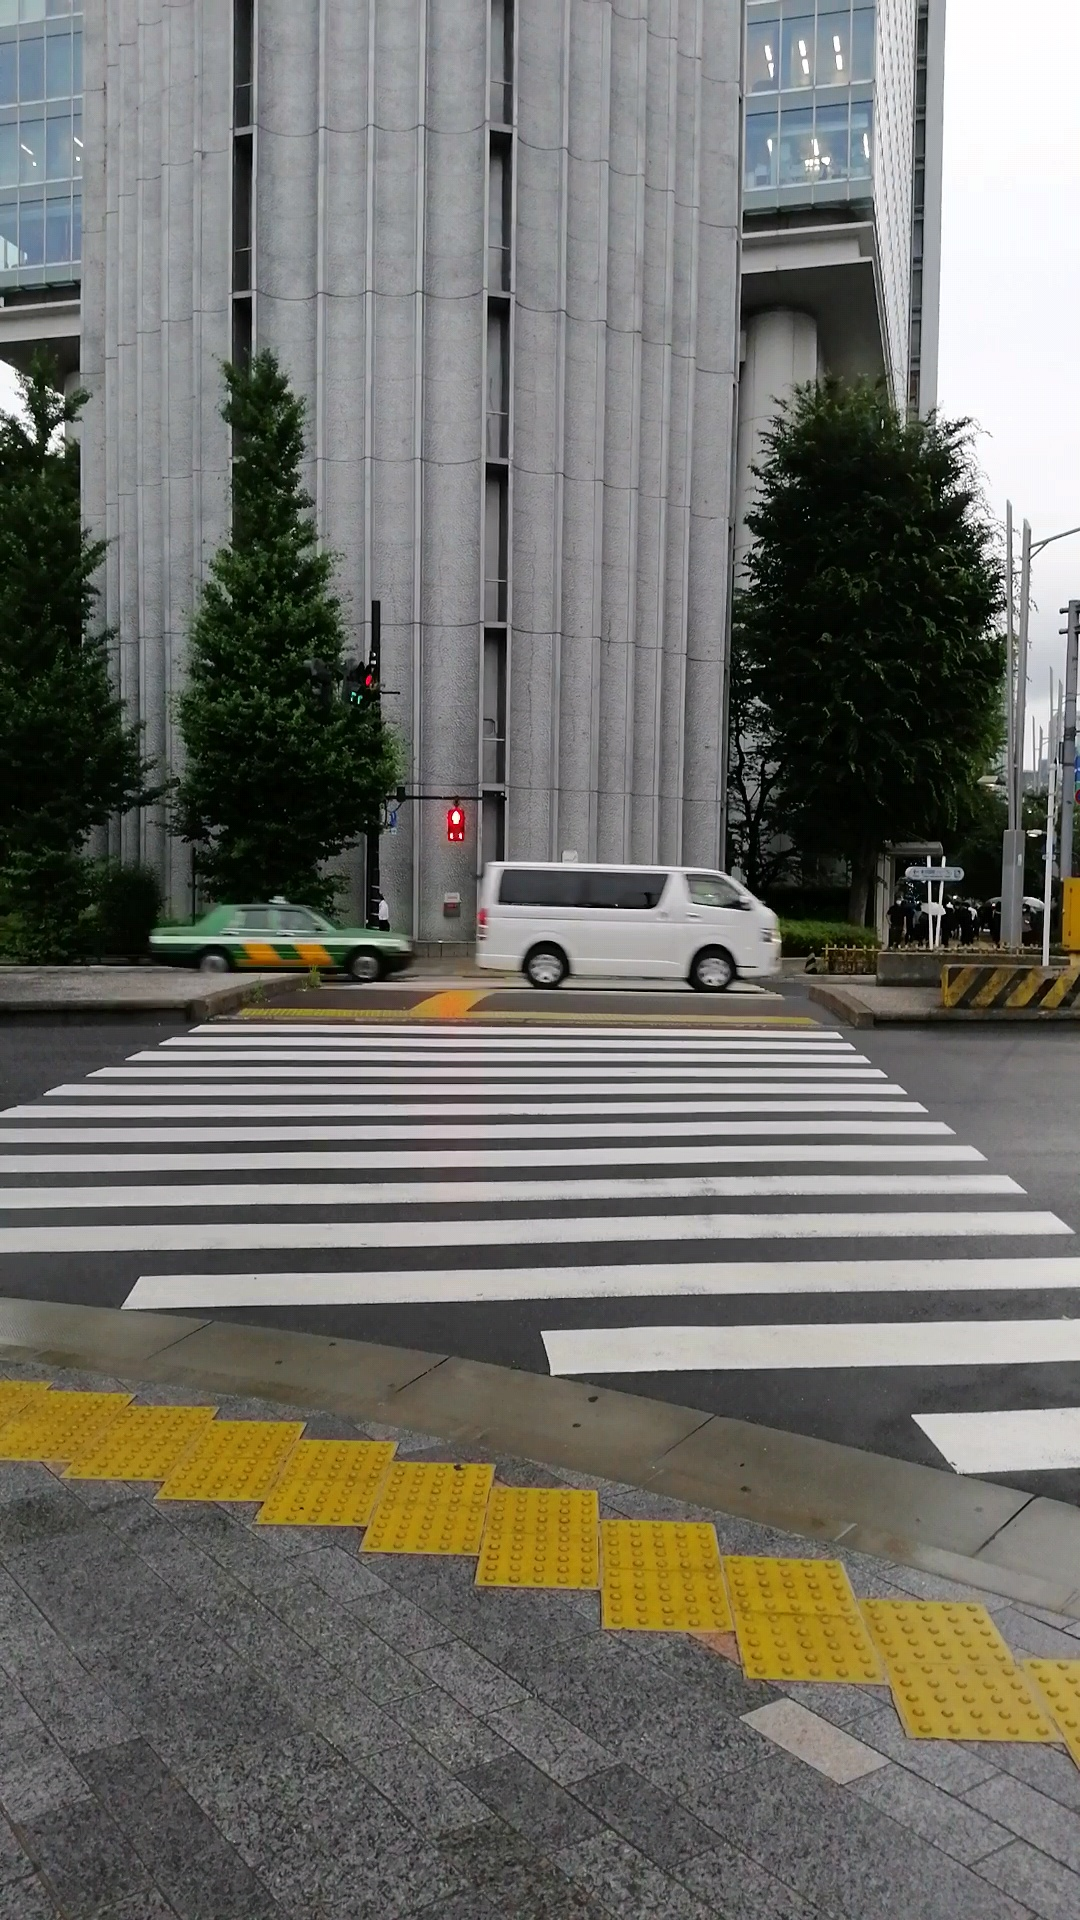red: (444, 804, 465, 843)
